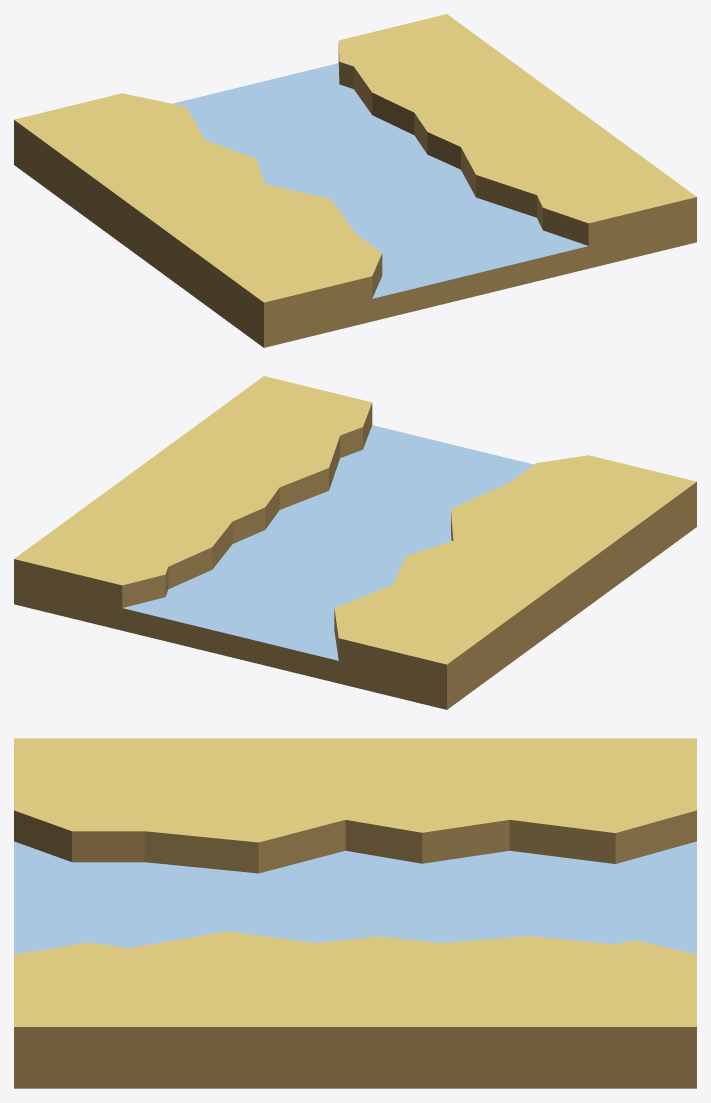
Rendered from Terrain_Modular_Tiles_Sand_Dirt_River_Straight_02.fbx.
3 views of the same model, one above another, from view 1: azimuth 30°, elevation 25°; view 2: azimuth 150°, elevation 25°; view 3: azimuth 270°, elevation 25° (orthographic). The views are drawn at different scales.
Visible parts, largest first — view 1: Terrain_Modular_Tiles_Sand_Dirt_River_Straight_02; view 2: Terrain_Modular_Tiles_Sand_Dirt_River_Straight_02; view 3: Terrain_Modular_Tiles_Sand_Dirt_River_Straight_02.
Part boxes in pixels (x1=…): Terrain_Modular_Tiles_Sand_Dirt_River_Straight_02: x1=14, y1=14, x2=696, y2=347; Terrain_Modular_Tiles_Sand_Dirt_River_Straight_02: x1=14, y1=376, x2=696, y2=709; Terrain_Modular_Tiles_Sand_Dirt_River_Straight_02: x1=14, y1=738, x2=696, y2=1088.
Size of the model in its own units: 118 by 11.81 by 118.
